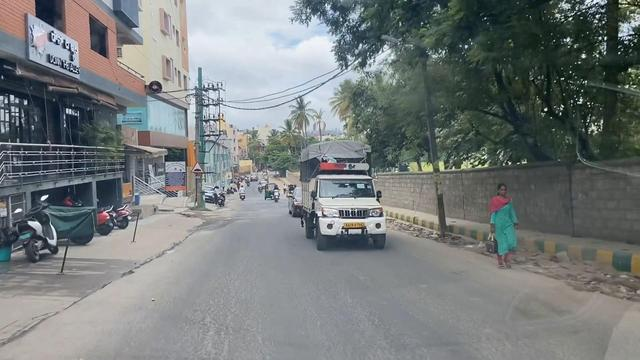HMV: (295, 136, 401, 264)
